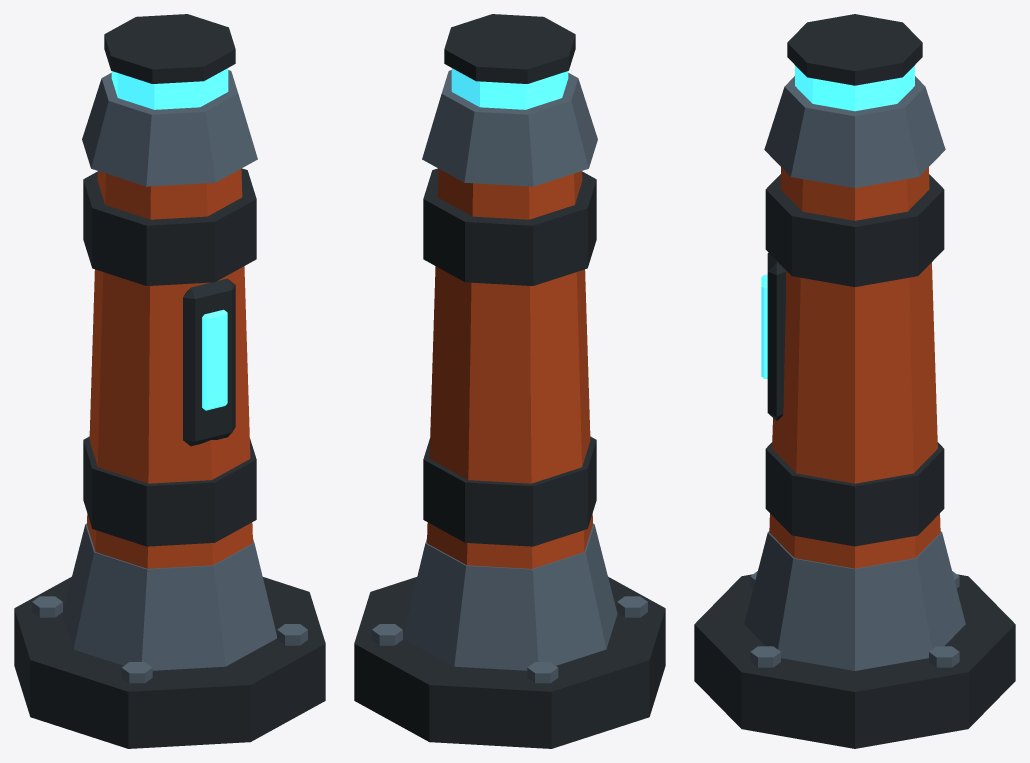
Rendered from utility-bollard.glb.
3 views of the same model, side by side, from view 1: azimuth 30°, elevation 25°; view 2: azimuth 150°, elevation 25°; view 3: azimuth 270°, elevation 25° (orthographic).
Visible parts, largest first — view 1: utility-bollard; view 2: utility-bollard; view 3: utility-bollard.
Boxes of the visible parts, left/top/right/bottom form: utility-bollard: left=14, top=14, right=325, bottom=748; utility-bollard: left=354, top=14, right=665, bottom=748; utility-bollard: left=694, top=14, right=1015, bottom=748.
Bounding box in the file's own units: 0.46 × 1.01 × 0.46.
